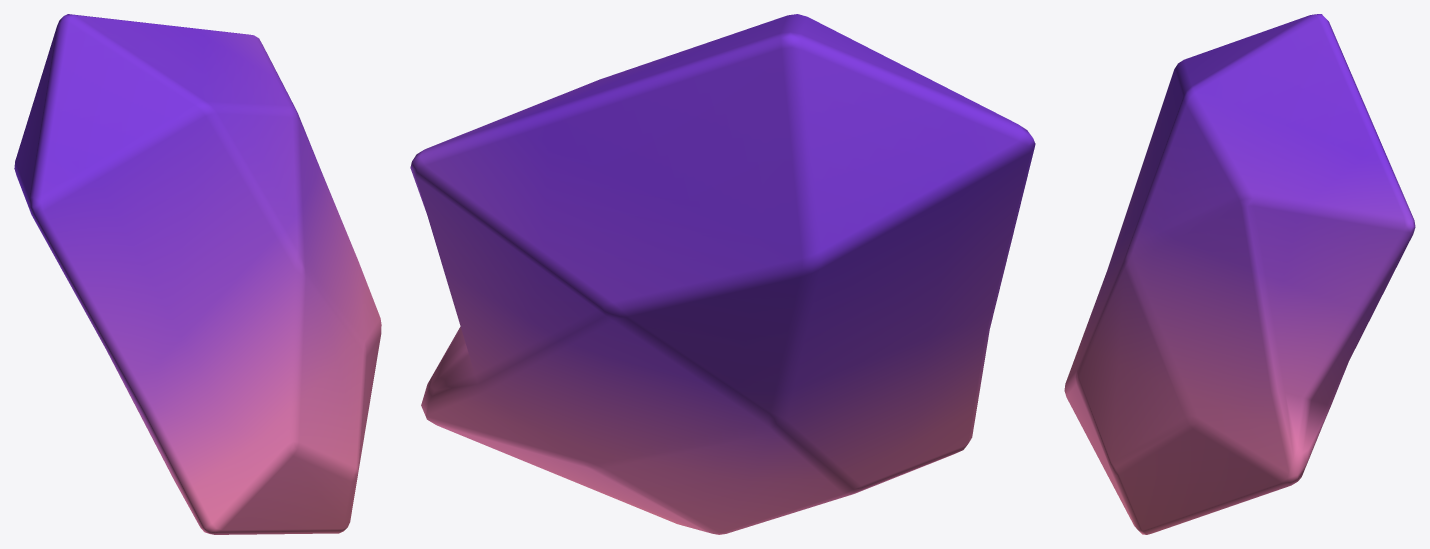
3 views of the same model, side by side, from view 1: azimuth 30°, elevation 25°; view 2: azimuth 150°, elevation 25°; view 3: azimuth 270°, elevation 25° (orthographic). The views are drawn at different scales.
Visible parts, largest first — view 1: model_1.135; view 2: model_1.135; view 3: model_1.135.
Boxes of the visible parts, left/top/right/bottom form: model_1.135: left=14, top=14, right=381, bottom=534; model_1.135: left=410, top=14, right=1035, bottom=534; model_1.135: left=1064, top=14, right=1415, bottom=534.
Bounding box in the file's own units: 3.21 × 3.68 × 2.65.
